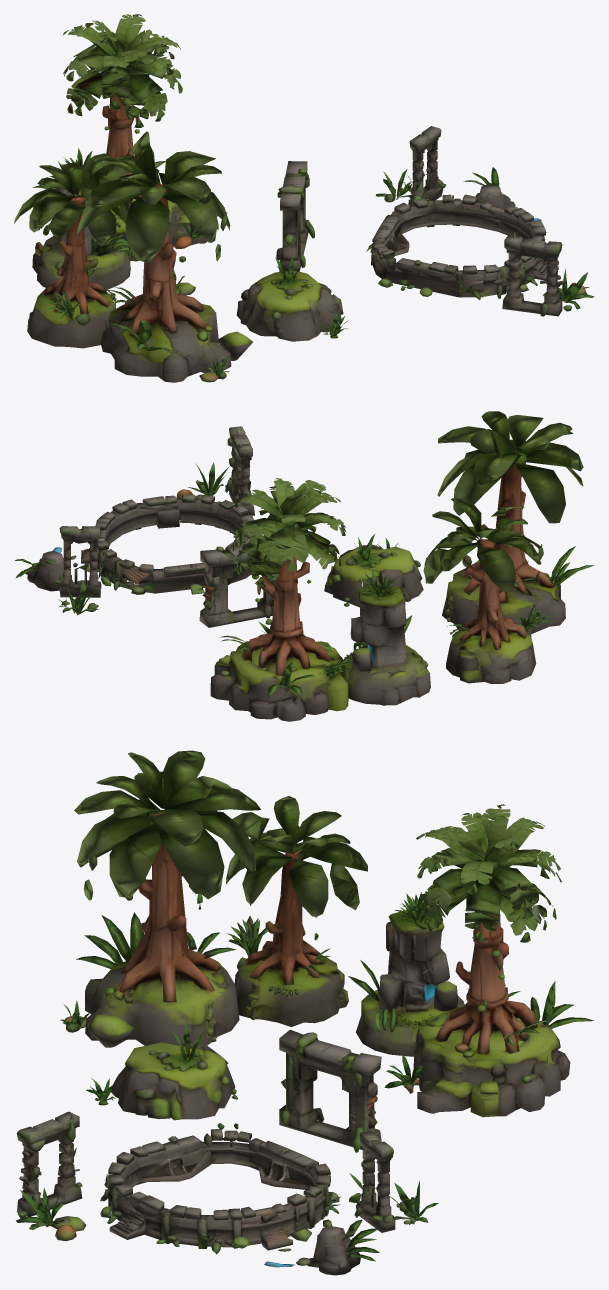
File: arena-kong-jungle-kit.glb
The picture shows the model from 3 angles, top to bottom: view 1: azimuth 30°, elevation 25°; view 2: azimuth 150°, elevation 25°; view 3: azimuth 270°, elevation 25°; orthographic projection. The views are drawn at different scales.
Visible parts, largest first — view 1: tripo_node_ad9cb5d1-06a7-4602-9371-31d0a11860ac; view 2: tripo_node_ad9cb5d1-06a7-4602-9371-31d0a11860ac; view 3: tripo_node_ad9cb5d1-06a7-4602-9371-31d0a11860ac.
Boxes of the visible parts, left/top/right/bottom form: tripo_node_ad9cb5d1-06a7-4602-9371-31d0a11860ac: left=14, top=14, right=594, bottom=382; tripo_node_ad9cb5d1-06a7-4602-9371-31d0a11860ac: left=15, top=411, right=594, bottom=721; tripo_node_ad9cb5d1-06a7-4602-9371-31d0a11860ac: left=16, top=750, right=593, bottom=1275.
Bounding box in the file's own units: 0.998 × 0.416 × 0.8301.
1 material, 1 textured.
